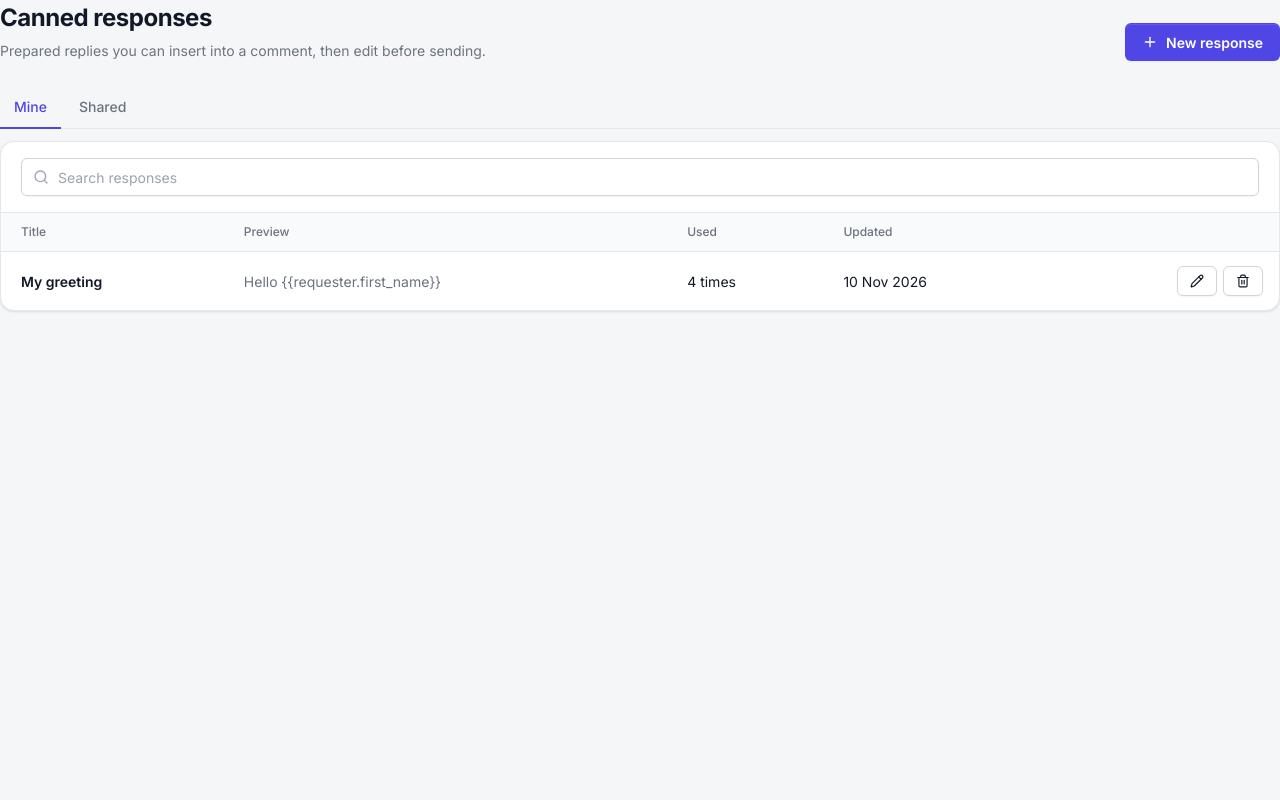
it: the dialog › editing saves the changes and says so
Click the button named "Edit My greeting" at (1197, 281), box 1177,266 -> 1217,296
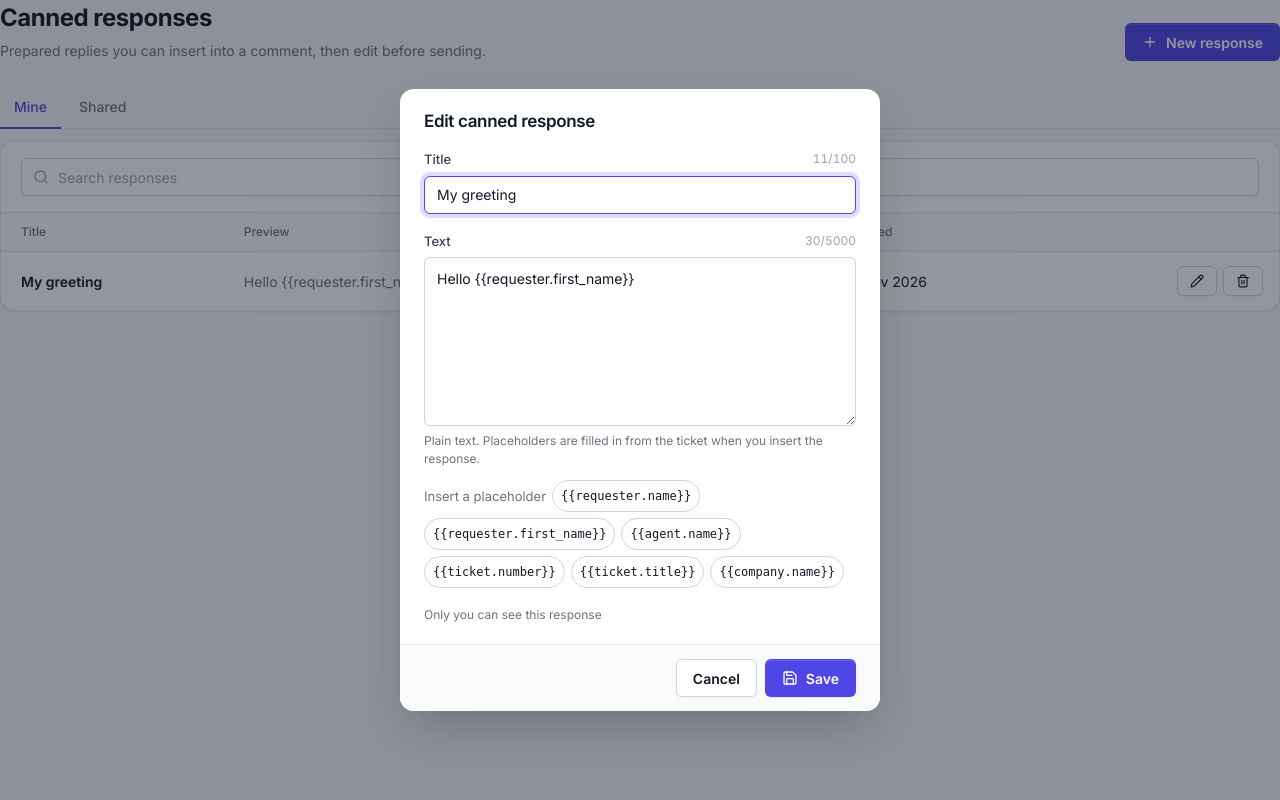
Result: the text "Only you can see this response" is shown at 424,607 -> 602,622
Replace the text in the field labelled "Title" with "Greeting" at (640, 195), box 424,176 -> 856,214
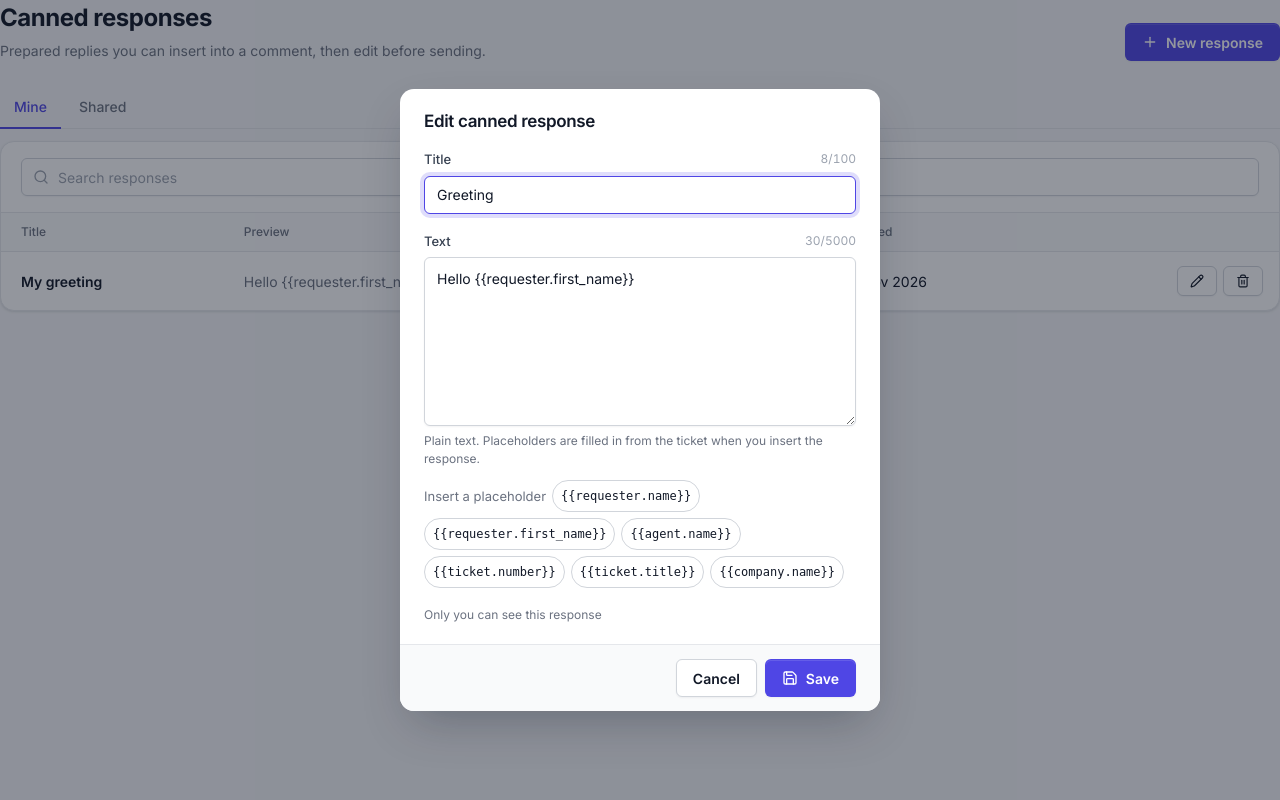
Click the button "Save" at (810, 678), box 765,659 -> 856,697
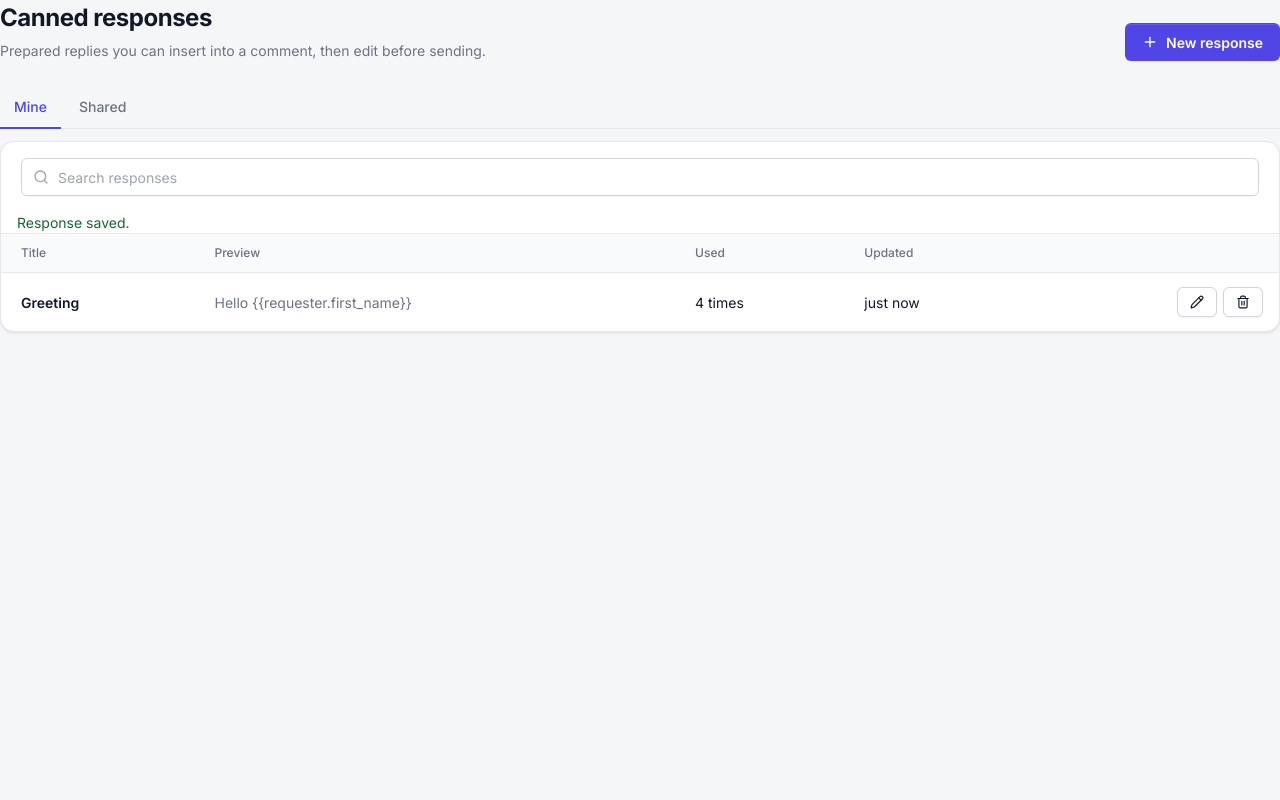
Result: the text "Response saved." is shown at 17,214 -> 130,231
